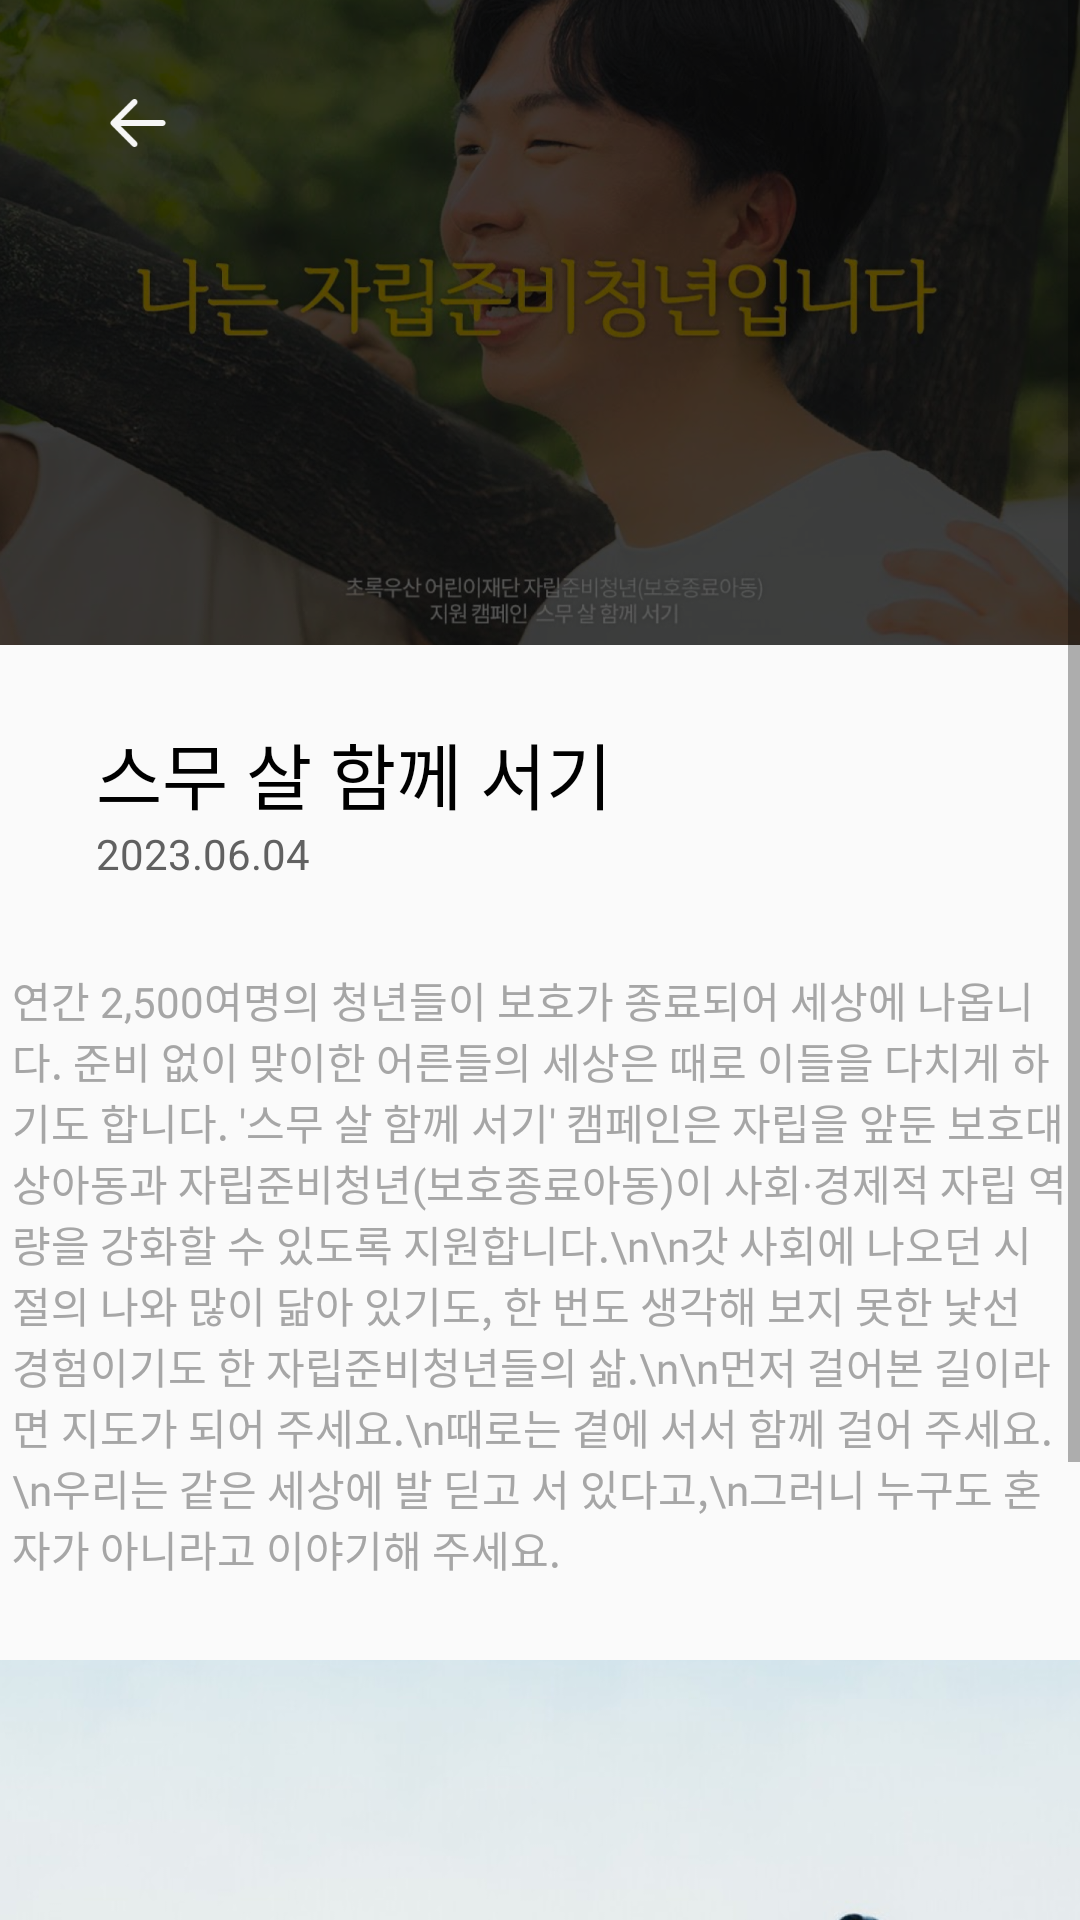

Icons on this 1080 x 1920 Android screen, each with the point to tap as (x,y):
back: (138,123)
